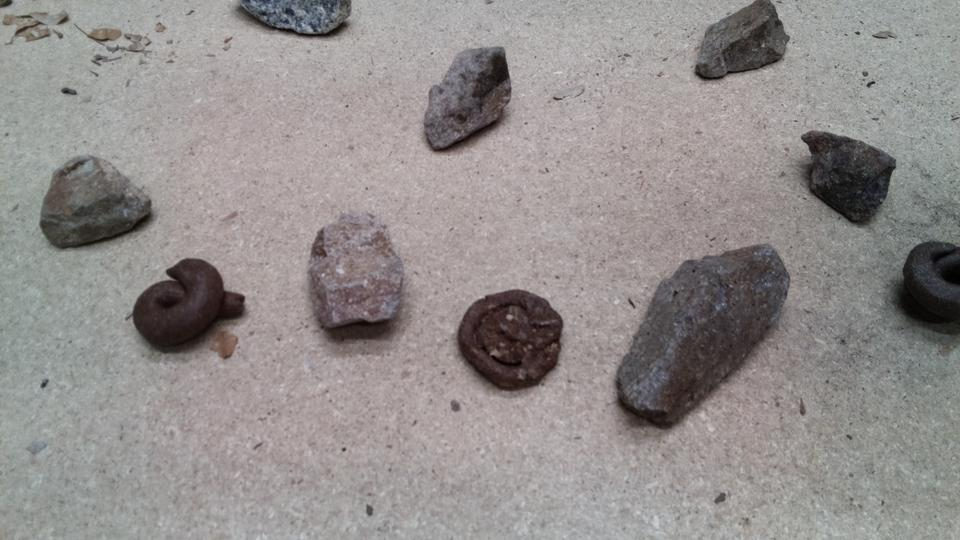poop: (727, 171, 847, 289), (207, 58, 299, 141), (657, 15, 734, 66)
